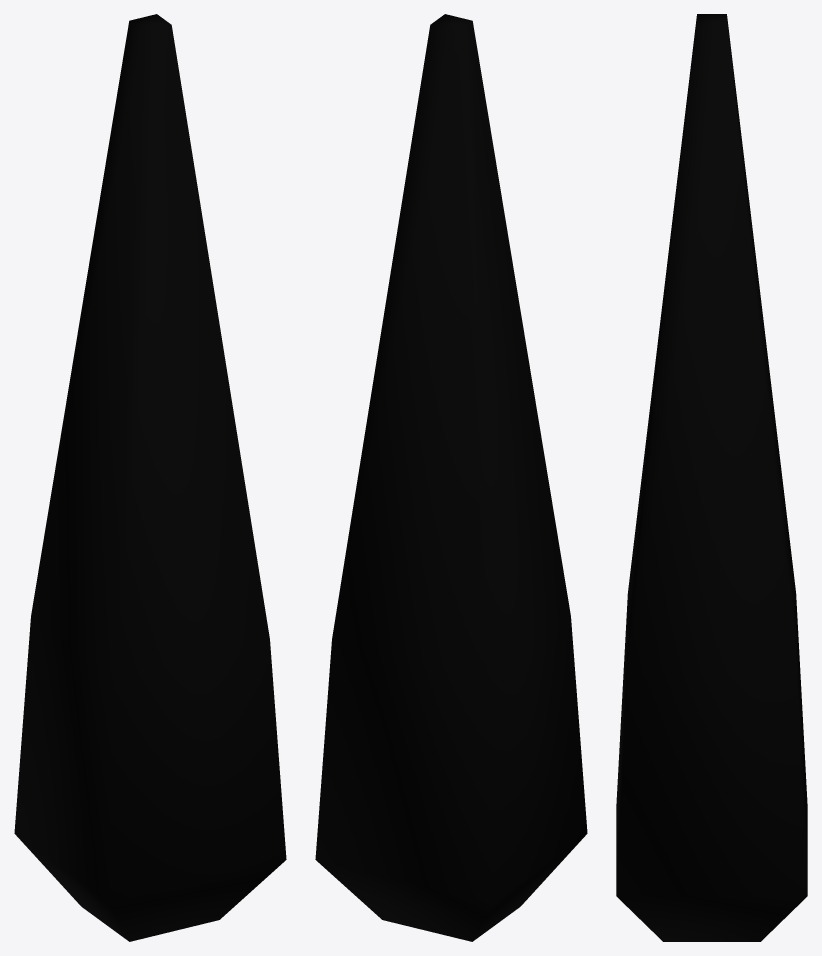
The model's file is pointer.fbx.
The picture shows the model from 3 angles, left to right: view 1: azimuth 30°, elevation 25°; view 2: azimuth 150°, elevation 25°; view 3: azimuth 270°, elevation 25°; orthographic projection.
Parts seen in each view (by area): view 1: Cube.031; view 2: Cube.031; view 3: Cube.031.
Part boxes in pixels (left/top/right/bottom): Cube.031: left=14, top=14, right=286, bottom=941; Cube.031: left=315, top=14, right=587, bottom=941; Cube.031: left=616, top=14, right=807, bottom=941.
Size of the model in its own units: 1.95 by 9.35 by 1.81.
Materials: 1 (1 with a texture image).
